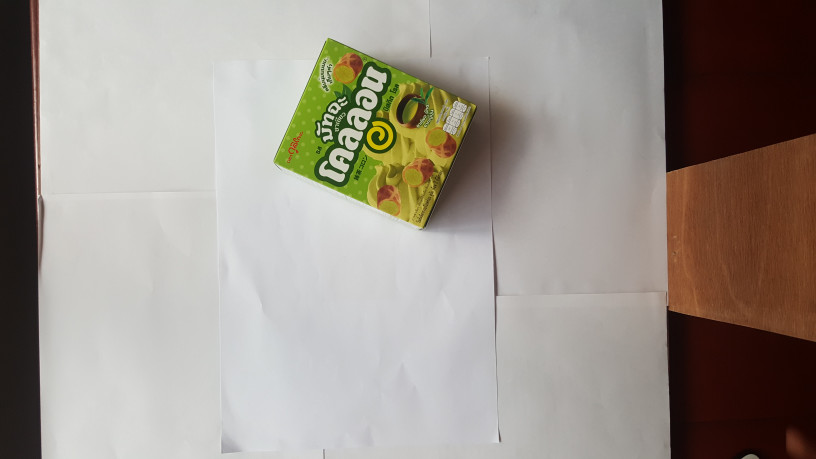collon-matcha: (272, 40, 478, 231)
